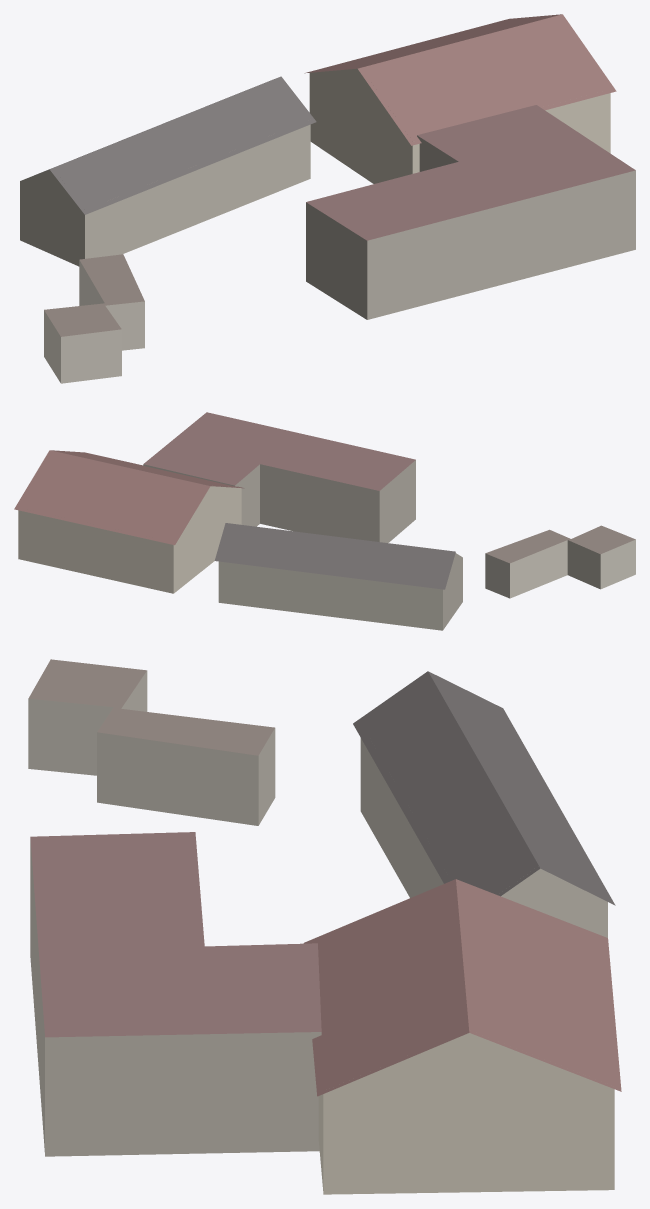
3 renders of one model, top to bottom at view 1: azimuth 30°, elevation 25°; view 2: azimuth 150°, elevation 25°; view 3: azimuth 270°, elevation 25°, orthographic. The views are drawn at different scales.
Parts seen in each view (by area): view 1: tuile; view 2: tuile; view 3: tuile.
Part boxes in pixels (left/top/right/bottom): tuile: left=20, top=14, right=635, bottom=383; tuile: left=14, top=412, right=635, bottom=630; tuile: left=28, top=659, right=621, bottom=1194.
Size of the model in its own units: 60.26 by 10.33 by 31.97.
